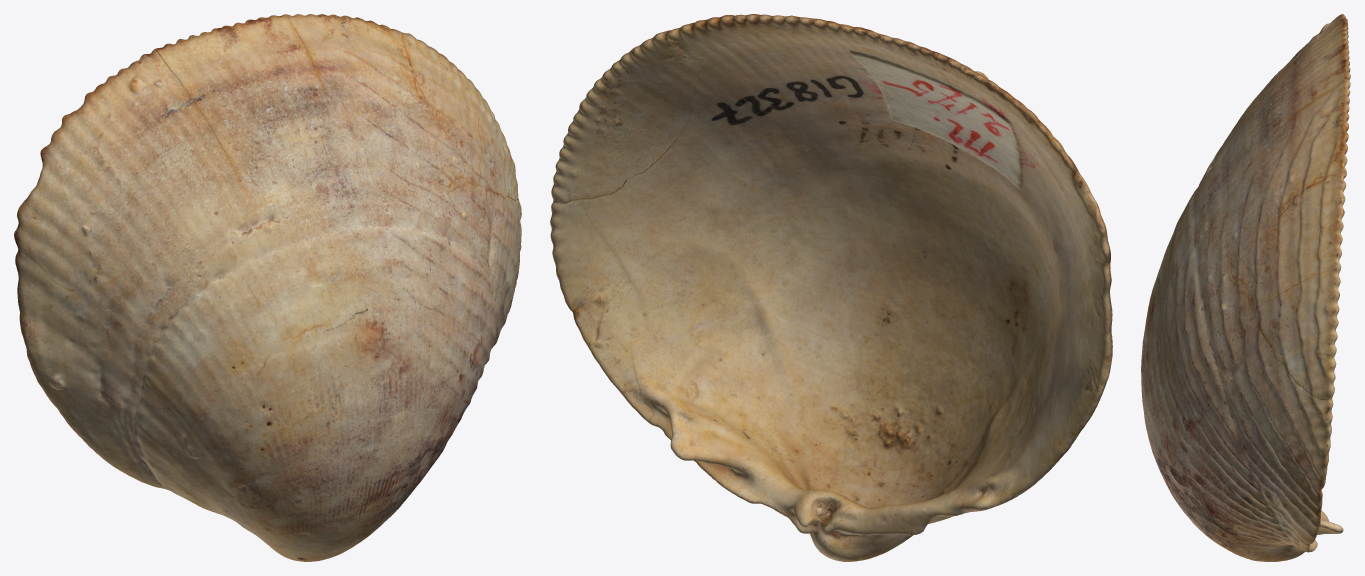
File: EWS0014086.glb
3 renders of one model, left to right at view 1: azimuth 30°, elevation 25°; view 2: azimuth 150°, elevation 25°; view 3: azimuth 270°, elevation 25°, orthographic. The views are drawn at different scales.
Parts seen in each view (by area): view 1: input; view 2: input; view 3: input.
Boxes of the visible parts, left/top/right/bottom form: input: left=14, top=14, right=521, bottom=561; input: left=550, top=14, right=1112, bottom=561; input: left=1141, top=14, right=1350, bottom=561.
Size of the model in its own units: 0.0335 by 0.0325 by 0.0126.
1 material, 1 textured.
